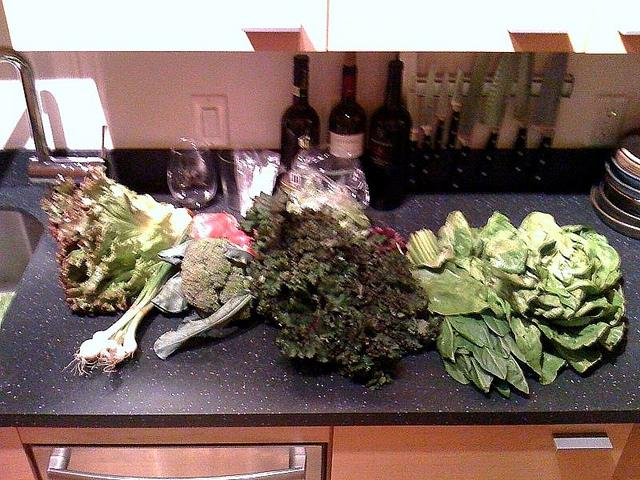broccoli: (180, 237, 254, 312)
